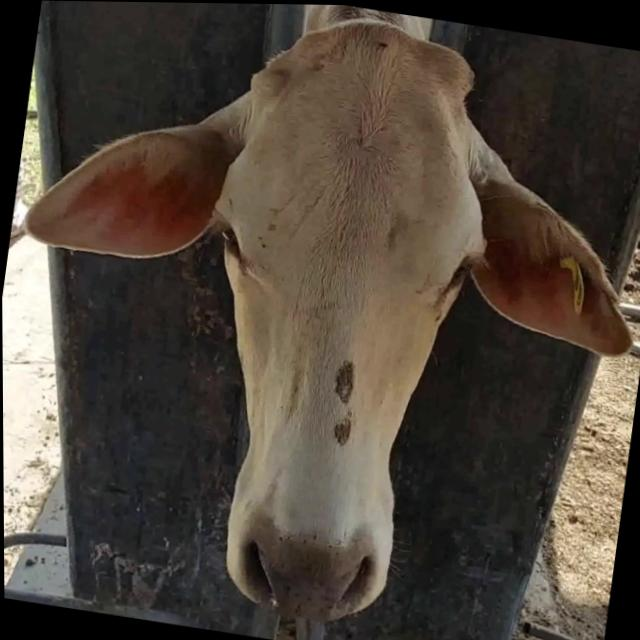cowFace: (160, 2, 518, 625)
